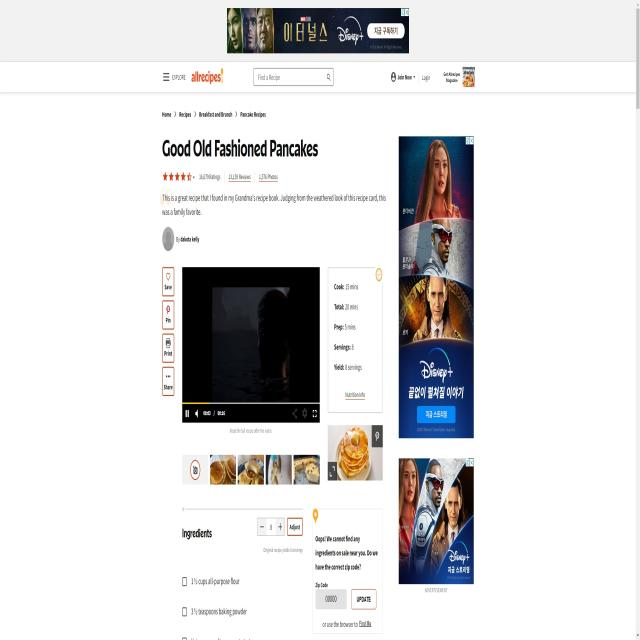control-bar: (179, 404, 322, 420)
search: (252, 67, 334, 85)
side-panel: (154, 249, 180, 419)
